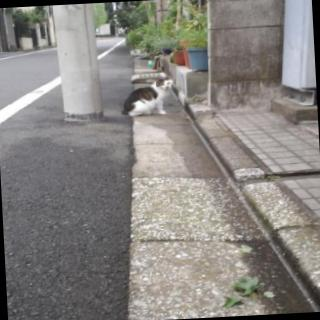cat: (120, 74, 176, 119)
